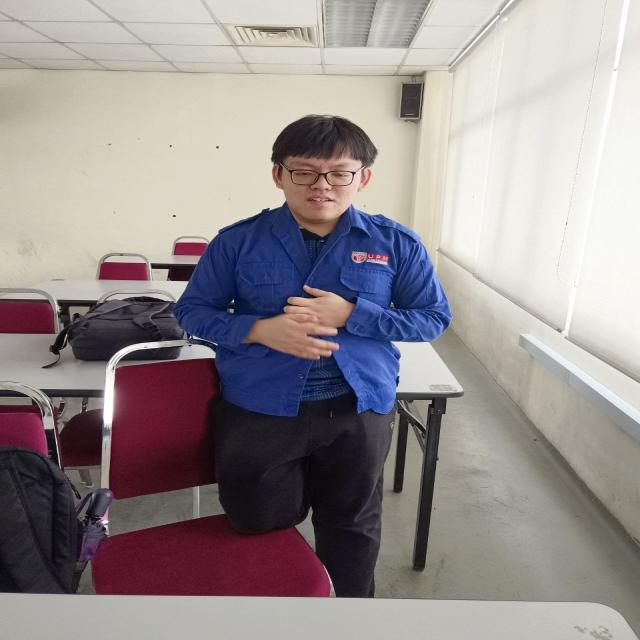person_with_labcoat: (176, 115, 451, 596)
